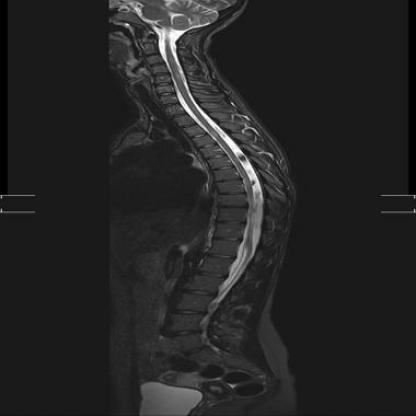Disc Bulgerotation: (218, 202, 248, 213), (218, 189, 247, 199), (216, 175, 243, 185), (151, 69, 170, 79)
